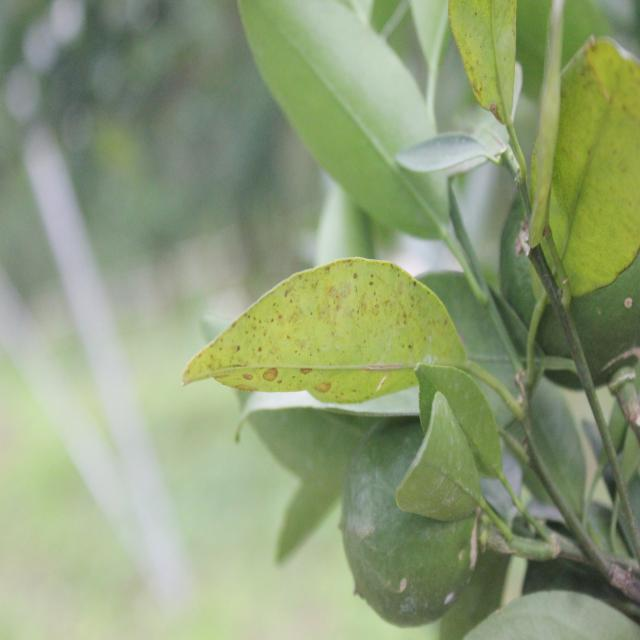melanose: (184, 258, 452, 412), (448, 0, 518, 124)
